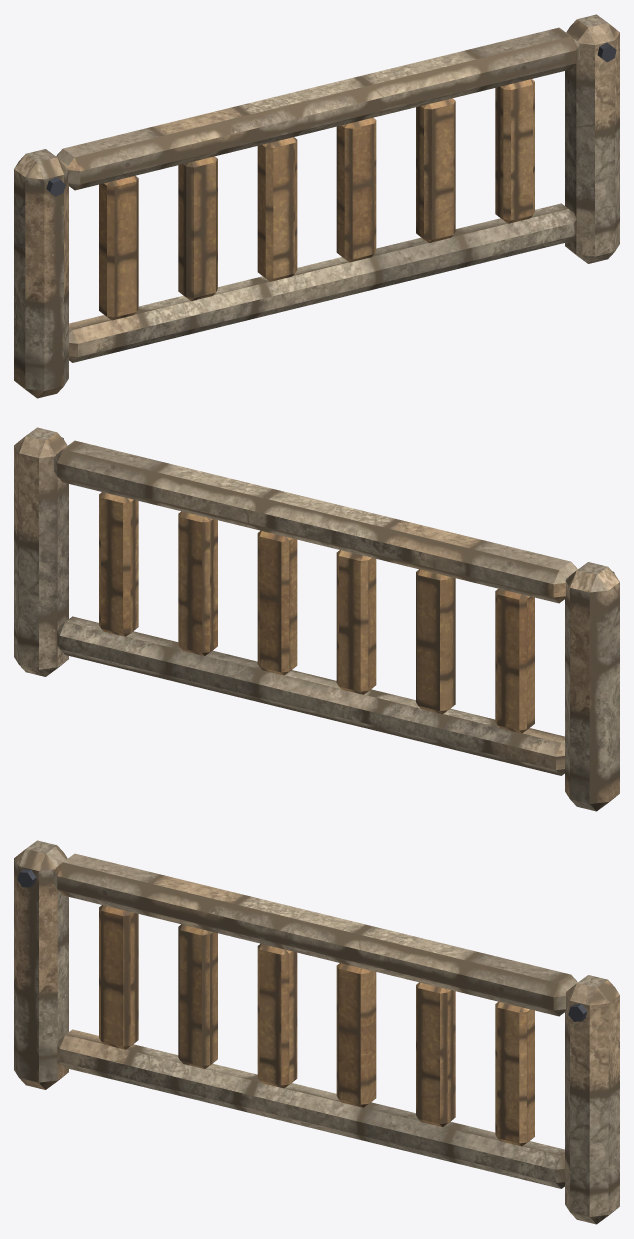
File: parmaklik.glb
The picture shows the model from 3 angles, top to bottom: view 1: azimuth 30°, elevation 25°; view 2: azimuth 150°, elevation 25°; view 3: azimuth 330°, elevation 25°; orthographic projection.
Visible parts, largest first — view 1: parmaklik; view 2: parmaklik; view 3: parmaklik.
Part boxes in pixels (x1=…): parmaklik: x1=14, y1=14, x2=619, y2=398; parmaklik: x1=14, y1=427, x2=619, y2=811; parmaklik: x1=14, y1=840, x2=619, y2=1224.
Bounding box in the file's own units: 3 × 1.14 × 0.255.
Materials: 1 (1 with a texture image).
